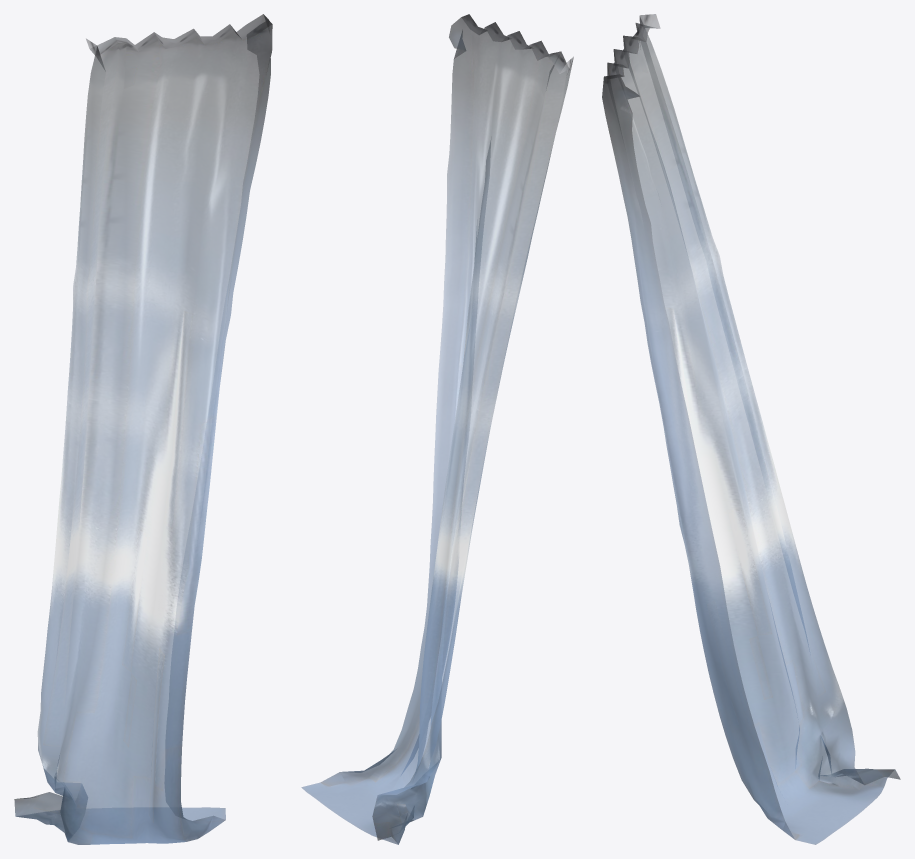
File: curtain.glb
The picture shows the model from 3 angles, left to right: view 1: azimuth 30°, elevation 25°; view 2: azimuth 150°, elevation 25°; view 3: azimuth 270°, elevation 25°; orthographic projection. The views are drawn at different scales.
Visible parts, largest first — view 1: curtainanimated; view 2: curtainanimated; view 3: curtainanimated.
Part boxes in pixels (box(x1,y1,x2,y2)): curtainanimated: box(14, 14, 272, 844); curtainanimated: box(301, 14, 573, 844); curtainanimated: box(602, 14, 900, 844).
Bounding box in the file's own units: 11.27 × 40.87 × 15.01.
1 material, 1 textured.
